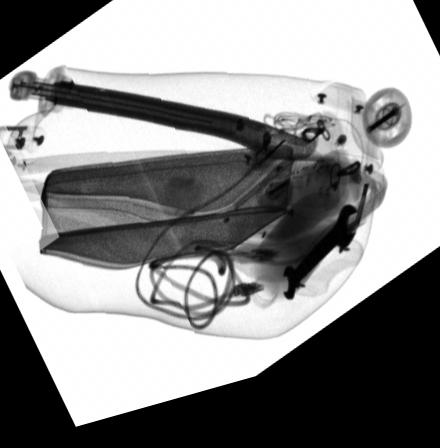Wrench: (281, 223, 358, 315)
